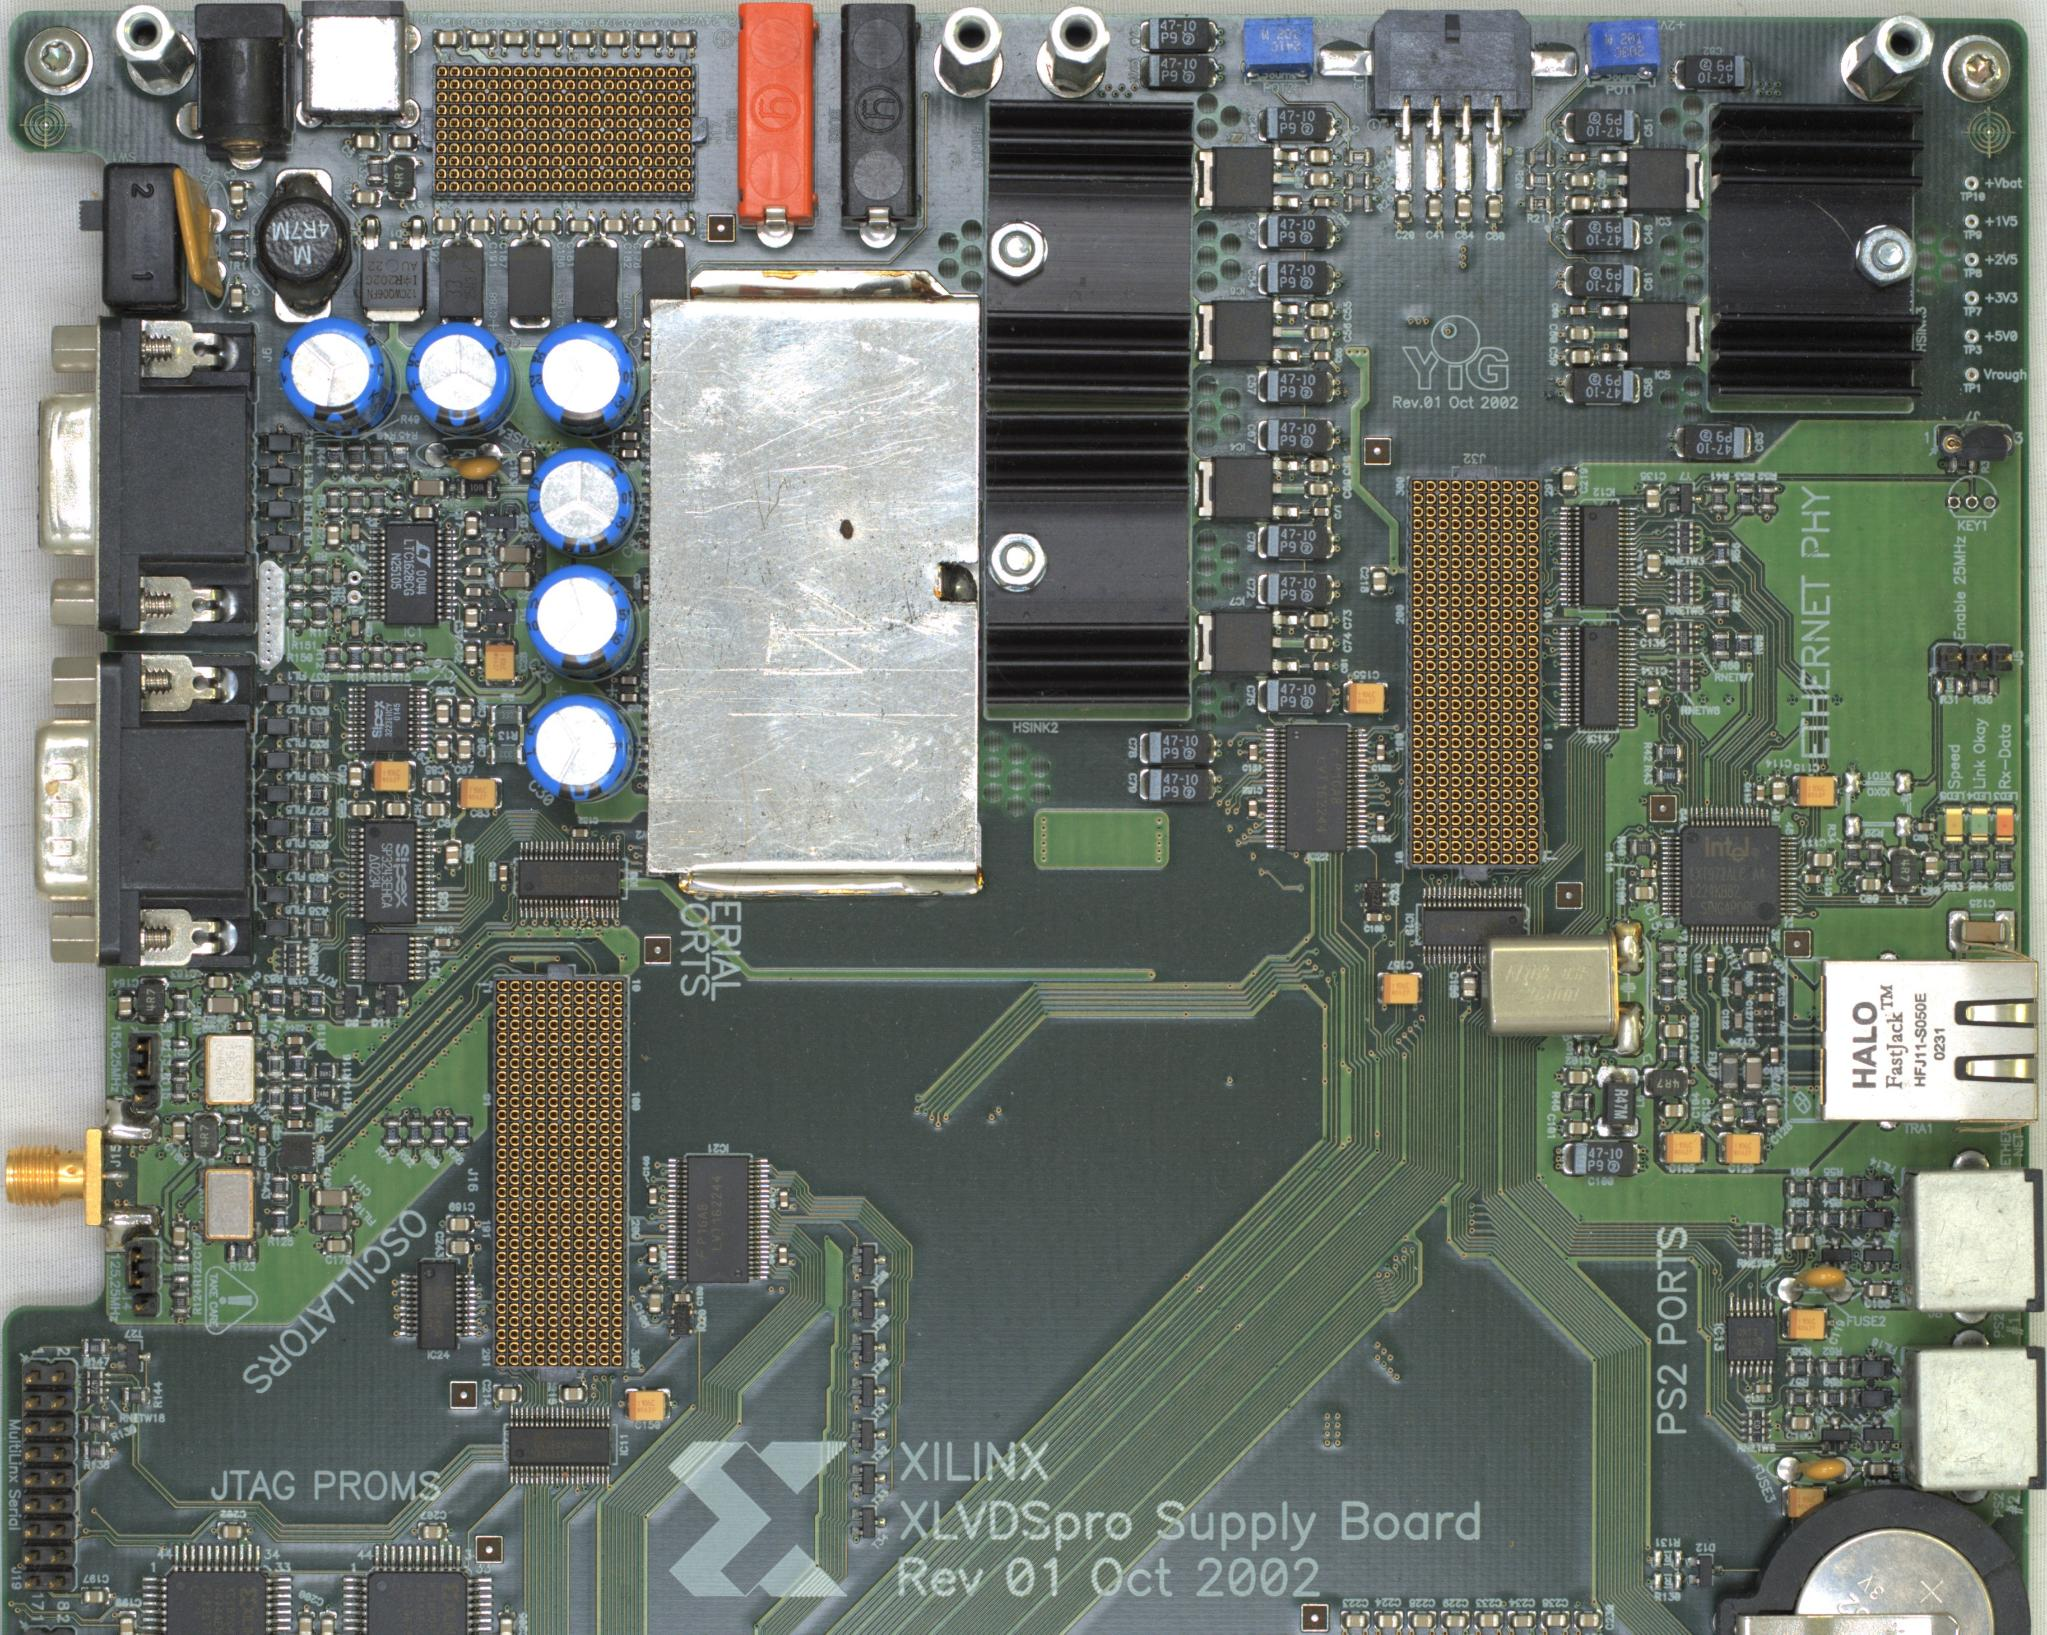tranzystor: (357, 214, 432, 325), (846, 1503, 888, 1550), (1858, 1415, 1900, 1460), (846, 1240, 888, 1281), (846, 1460, 888, 1498), (1667, 480, 1703, 521), (851, 1330, 888, 1370), (846, 1285, 884, 1321), (480, 506, 521, 541), (1860, 1235, 1895, 1275), (851, 1415, 884, 1456), (480, 602, 517, 636), (1818, 1413, 1855, 1446), (852, 1375, 884, 1413), (1818, 1240, 1855, 1265)
